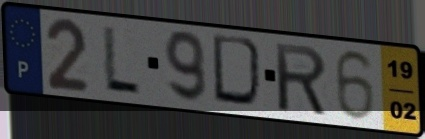2: (43, 15, 92, 95)
6: (334, 47, 377, 123)
9: (161, 29, 210, 105)
D: (210, 31, 269, 112)
L: (100, 23, 143, 98)
R: (272, 40, 330, 119)
